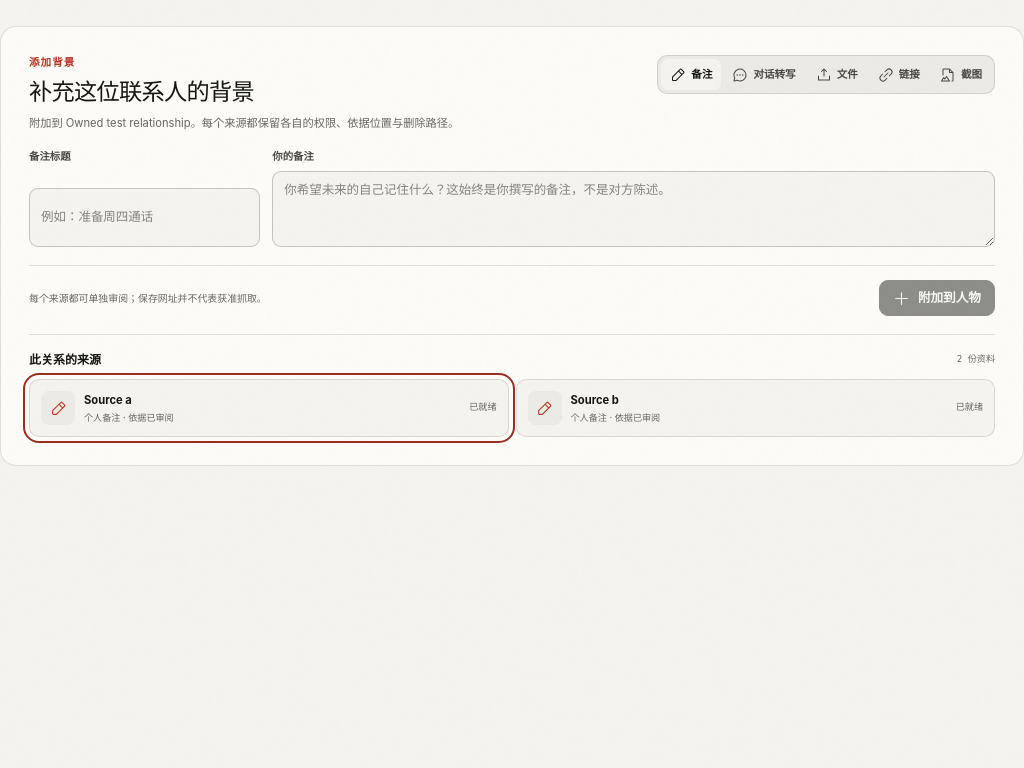
Test: reports a current manual research failure without an unhandled rejection and permits retry
The width and height of the screenshot is (1024, 768).
Click the button "Source a 个人备注 · 依据已审阅 已就绪".
click(58, 408)  # box [29, 379, 508, 437]
(page scrolled)
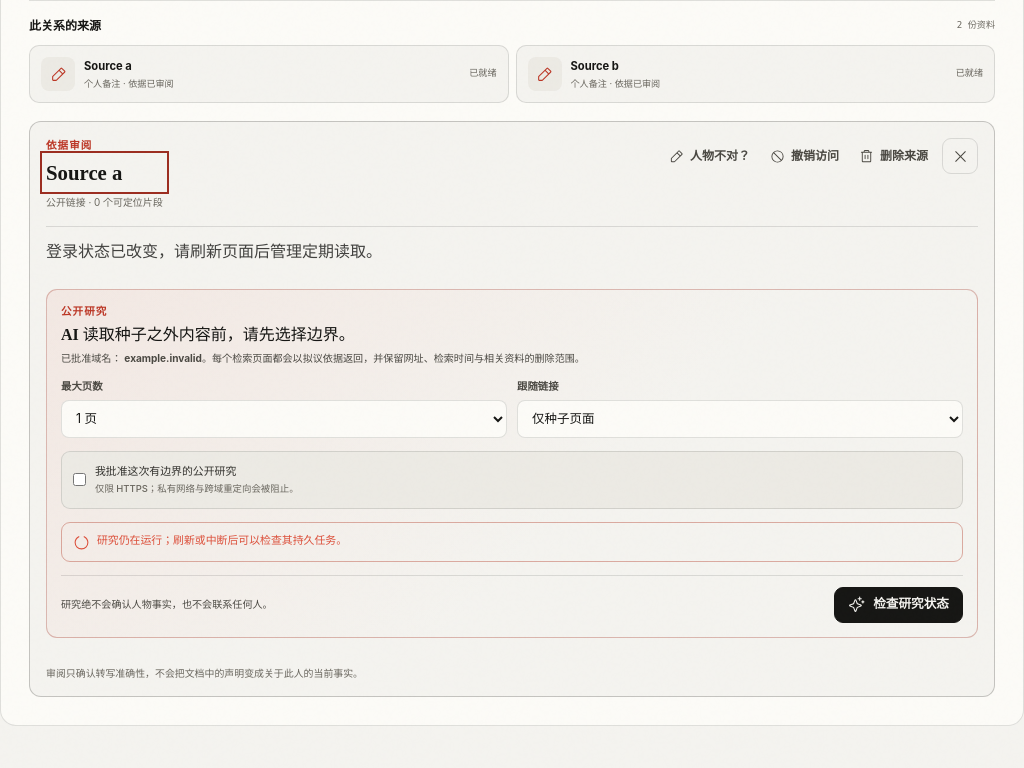
Check: the button "检查研究状态" is shown
Check: the button "检查研究状态" is enabled
Click the button "检查研究状态".
click(899, 605)  # box [834, 587, 963, 623]
(page scrolled)
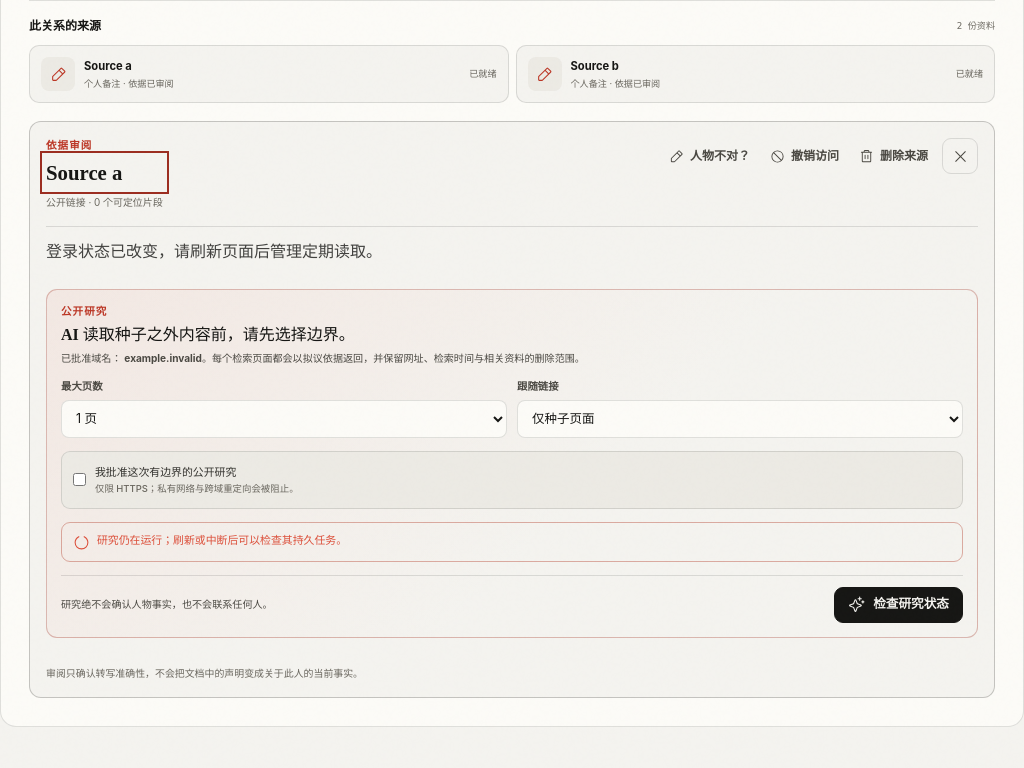
Check: the heading "Source a" is shown, box [46, 161, 122, 184]
Check: the button "检查研究状态" is enabled
Click the button "检查研究状态".
click(899, 605)  # box [834, 587, 963, 623]
(page scrolled)
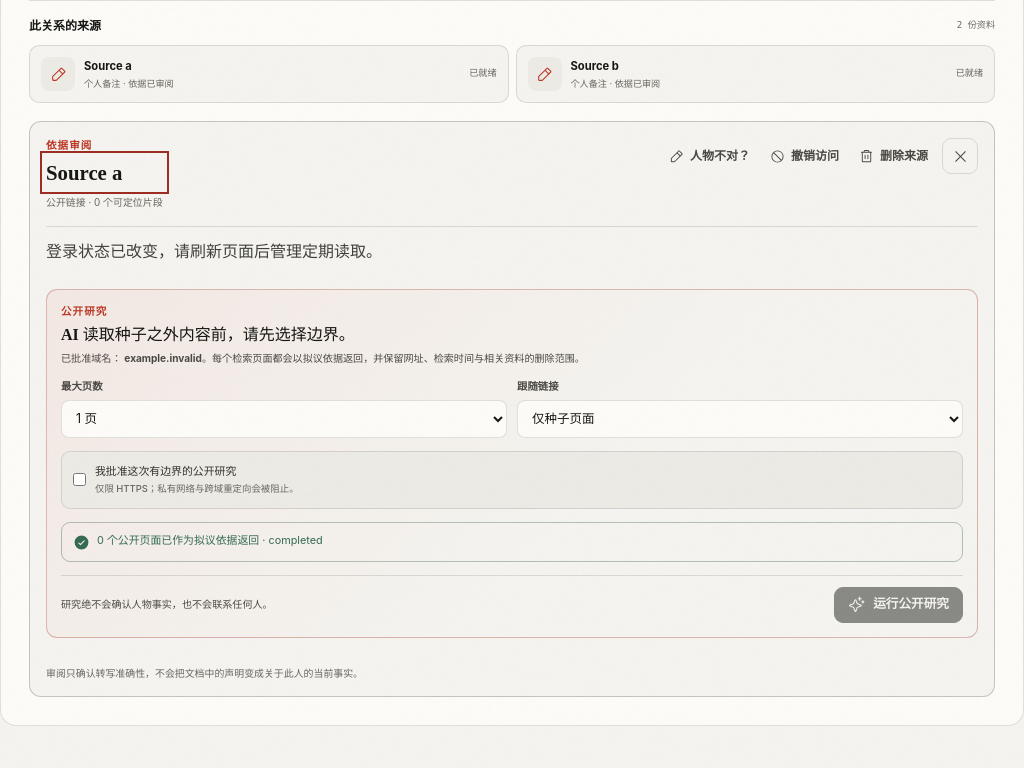
Check: the text "0 个公开页面" is shown, box [97, 533, 323, 547]
